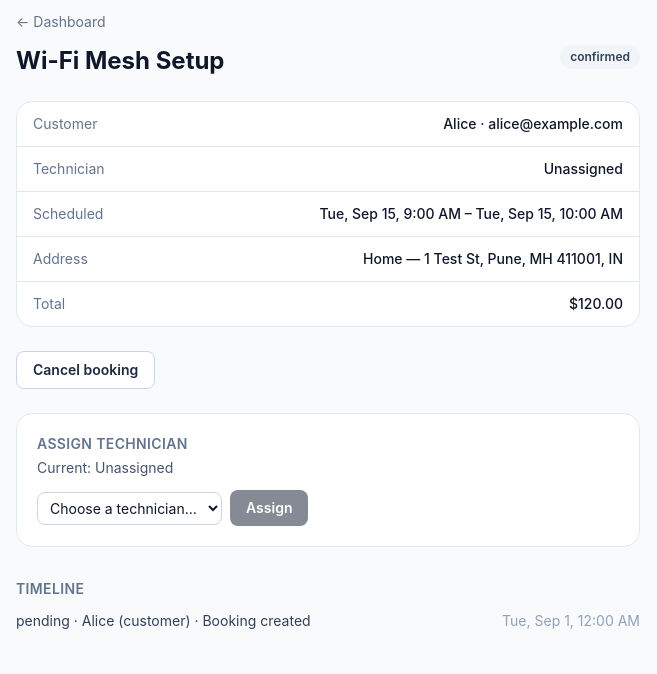
Test: OperationsBookingDetailPage › assigns a technician to a confirmed booking
The width and height of the screenshot is (657, 674).
Expected: the heading "Wi-Fi Mesh Setup" is shown, [16,45,224,77]
Step 1. Select "Tara Bolt" in the dropdown named "technician" → (130, 508), box [37,492,222,524]
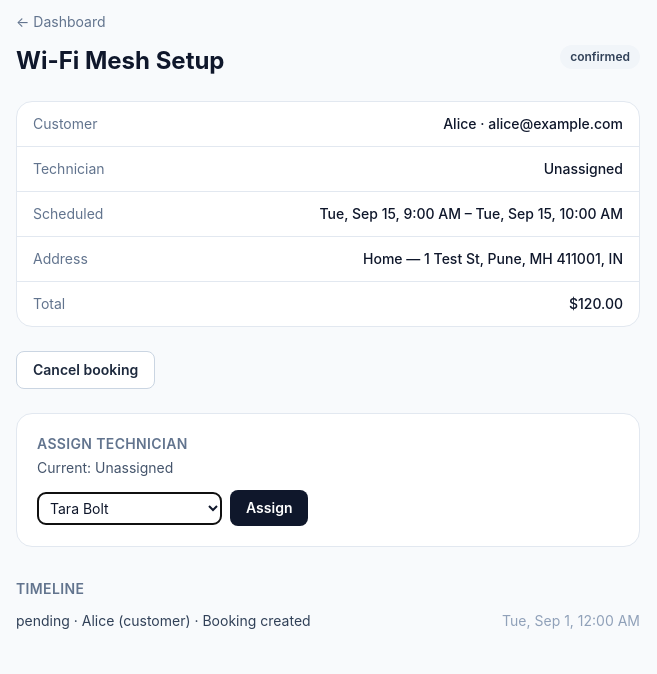
Step 2. Click the button "Assign" → (269, 508), box [230,490,308,526]
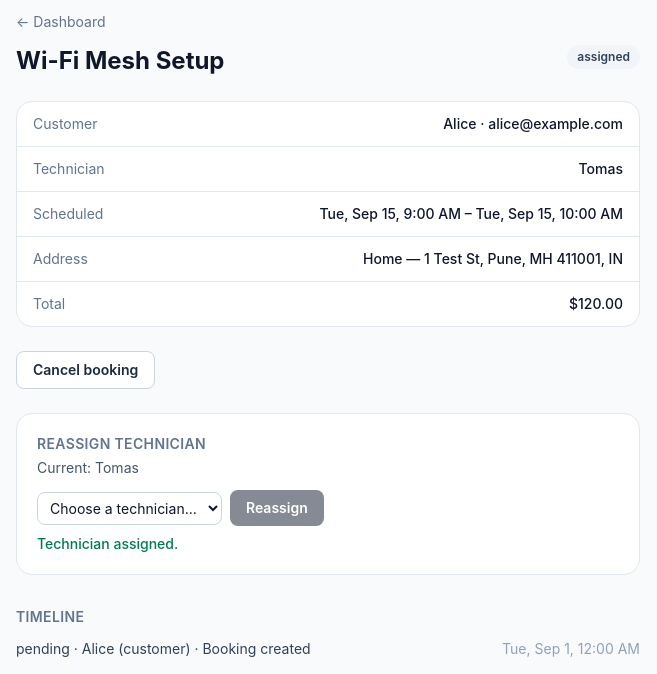
Expected: the message shows "assigned", [37,535,178,552]
